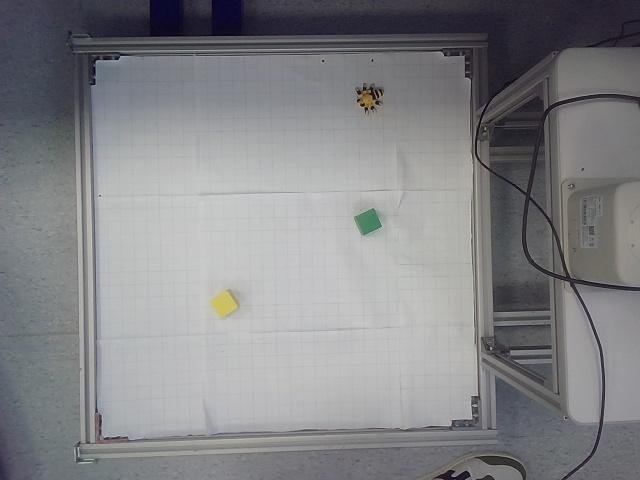frelon: (354, 82, 385, 115)
